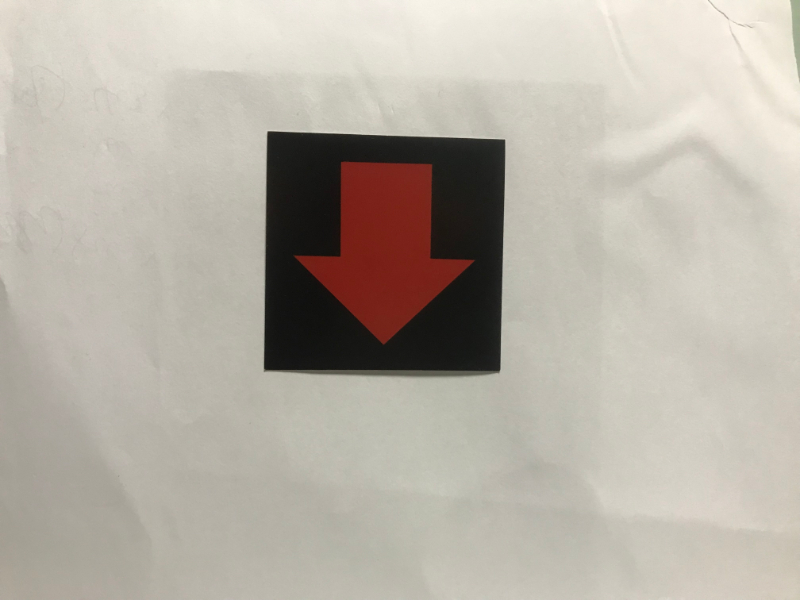DA-2: (274, 143, 497, 367)
